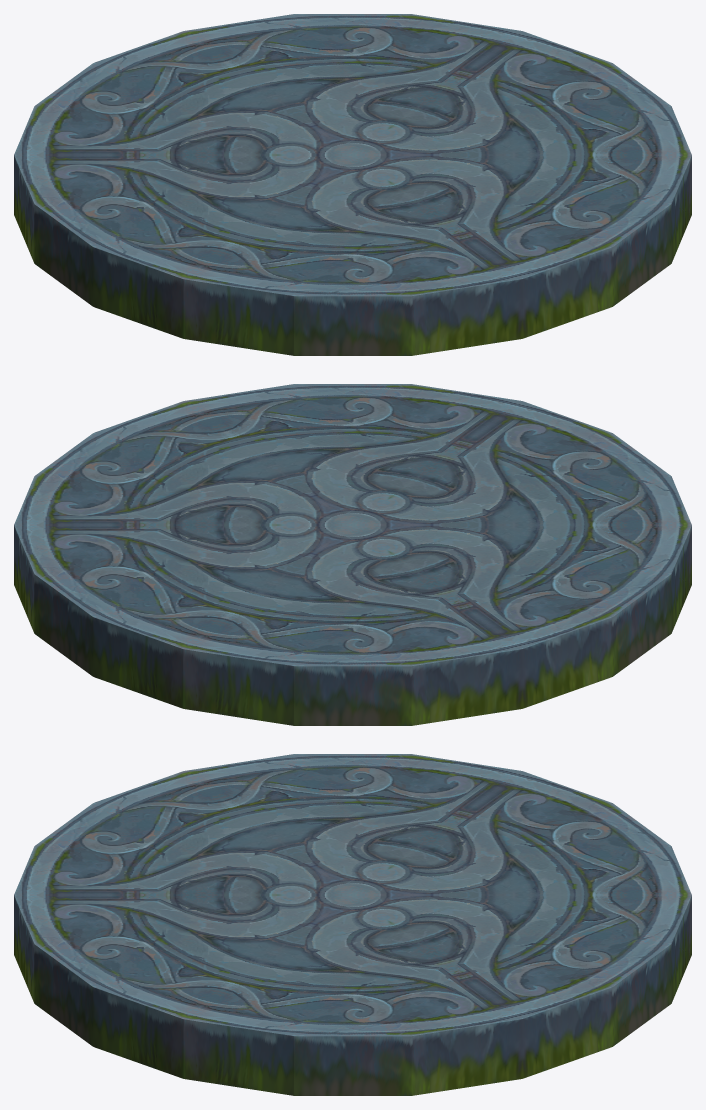
File: fb_tys_zj_04_a.FBX
3 views of the same model, one above another, from view 1: azimuth 30°, elevation 25°; view 2: azimuth 150°, elevation 25°; view 3: azimuth 270°, elevation 25° (orthographic).
Parts seen in each view (by area): view 1: fb_tys_zj_04_a; view 2: fb_tys_zj_04_a; view 3: fb_tys_zj_04_a.
Boxes of the visible parts, x1,y1,x2,y2 form: fb_tys_zj_04_a: (14, 14, 691, 355); fb_tys_zj_04_a: (14, 384, 691, 725); fb_tys_zj_04_a: (14, 754, 691, 1095).
Bounding box in the file's own units: 1135 × 112 × 1152.
